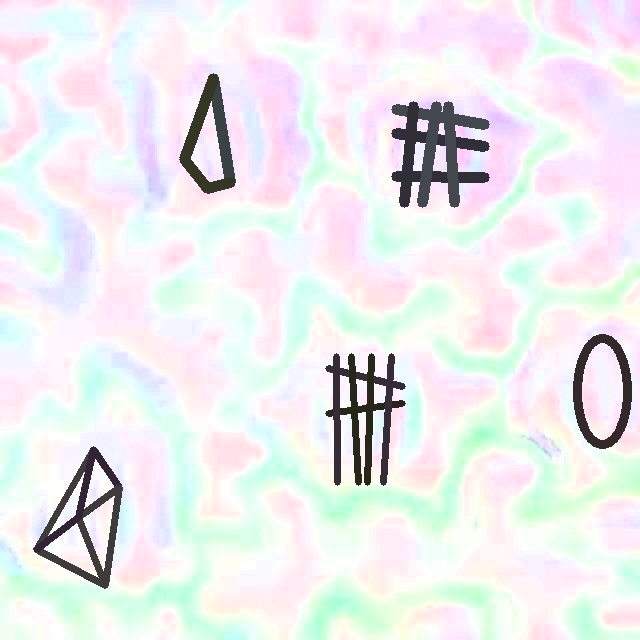close: (391, 101, 488, 206), (572, 333, 631, 448)
open: (33, 446, 122, 588), (326, 354, 404, 484), (180, 74, 235, 192)
